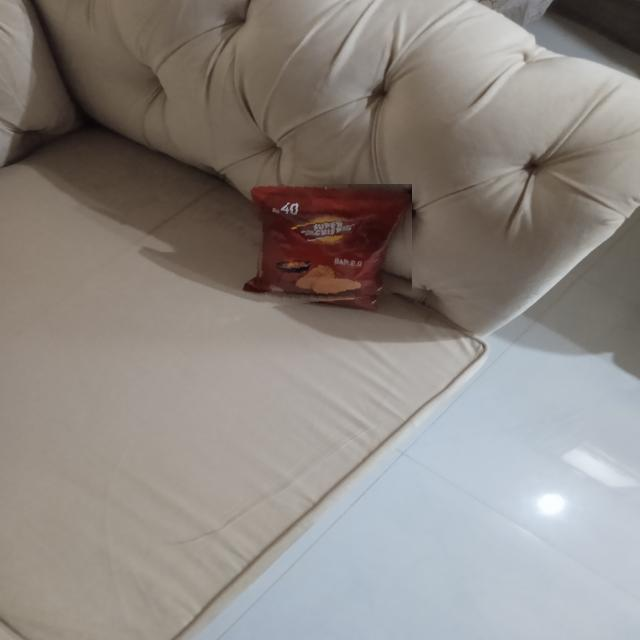Plastic: (255, 184, 412, 308)
